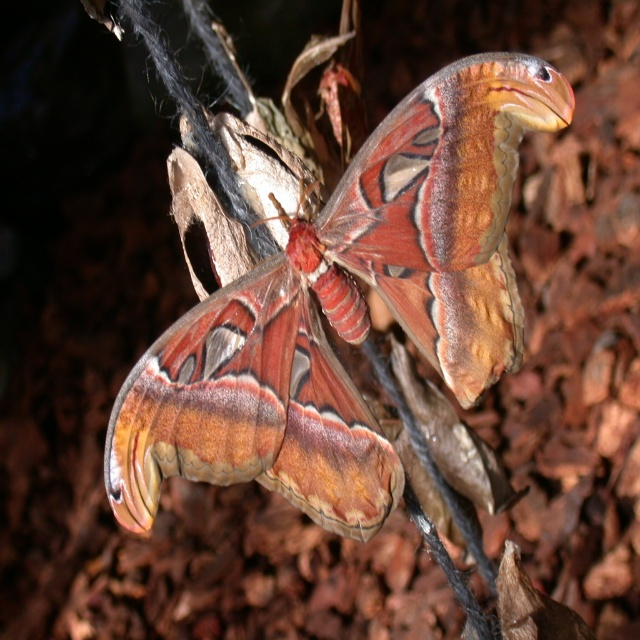Butterfly: (118, 54, 550, 517)
